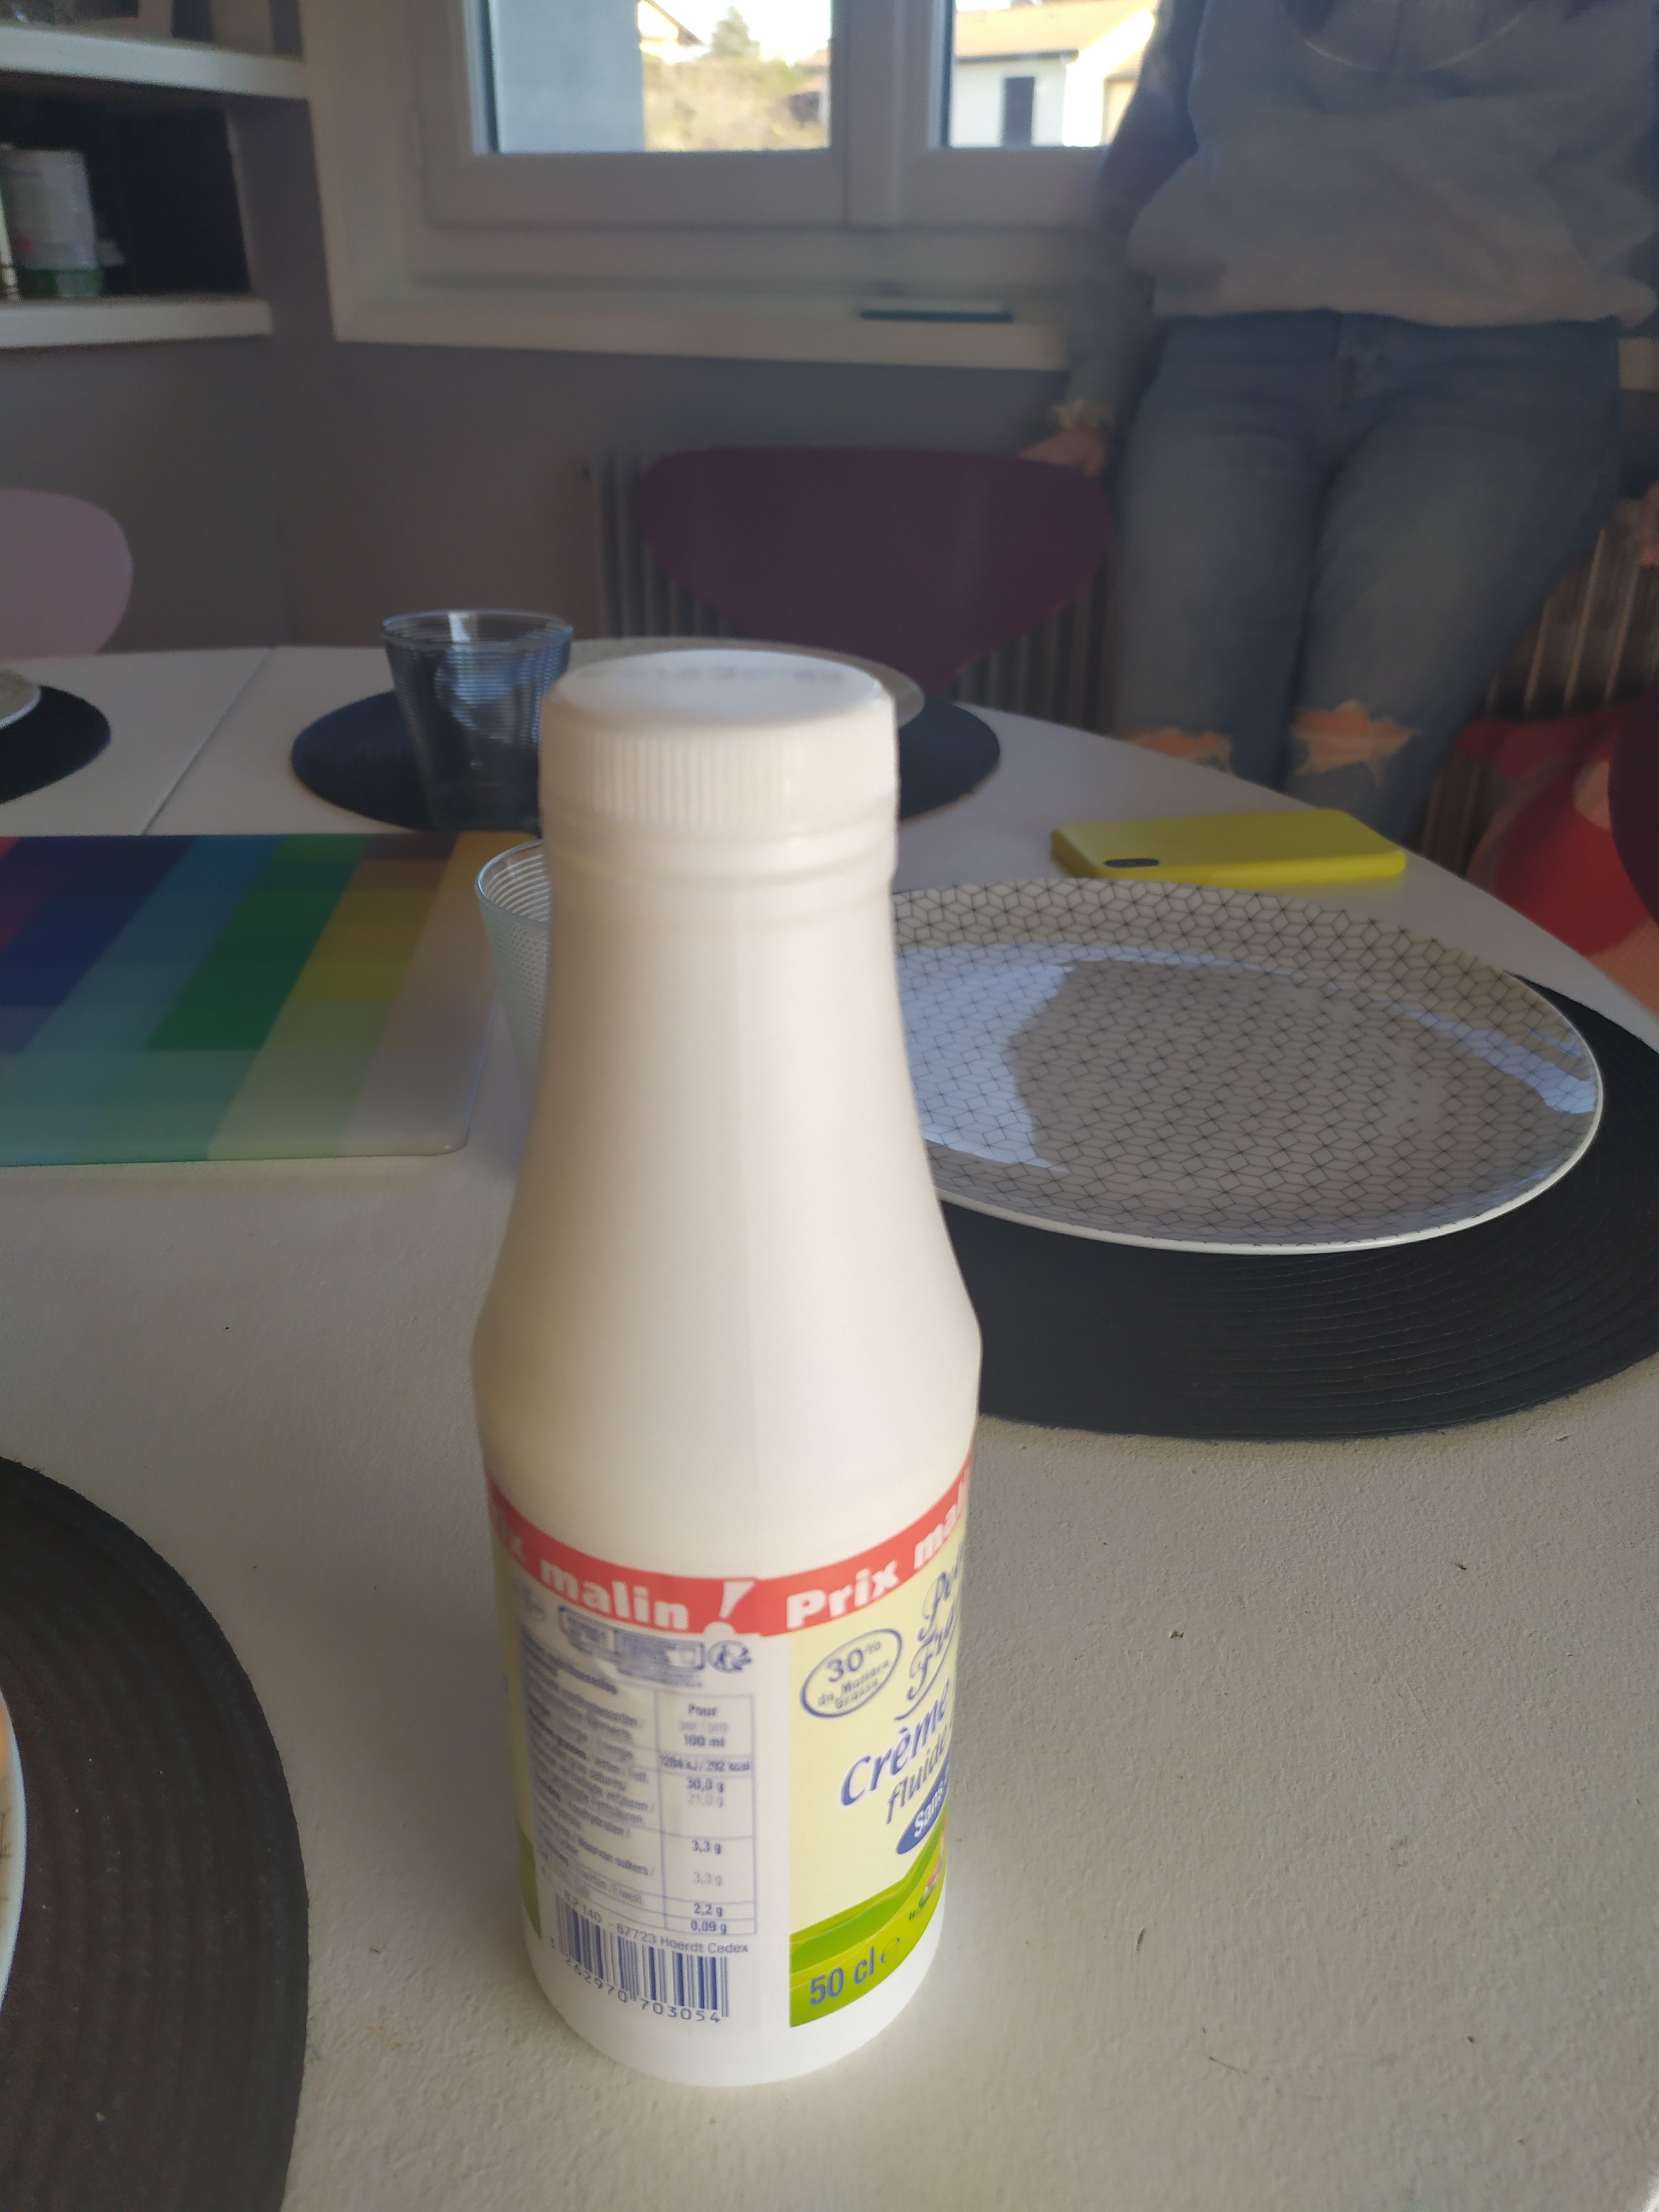bottle: (472, 651, 983, 2060)
